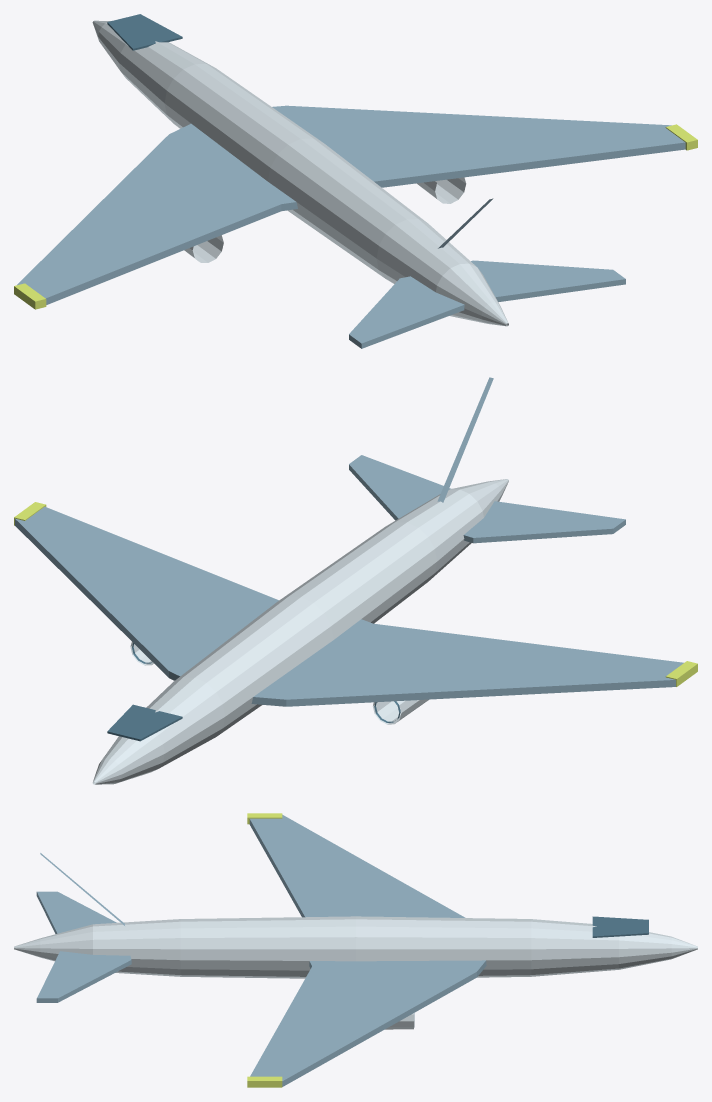
The model's file is airspace-generic.glb.
3 views of the same model, one above another, from view 1: azimuth 30°, elevation 25°; view 2: azimuth 150°, elevation 25°; view 3: azimuth 270°, elevation 25° (orthographic). The views are drawn at different scales.
Bounding box in the file's own units: 36.1 × 7.98 × 39.
